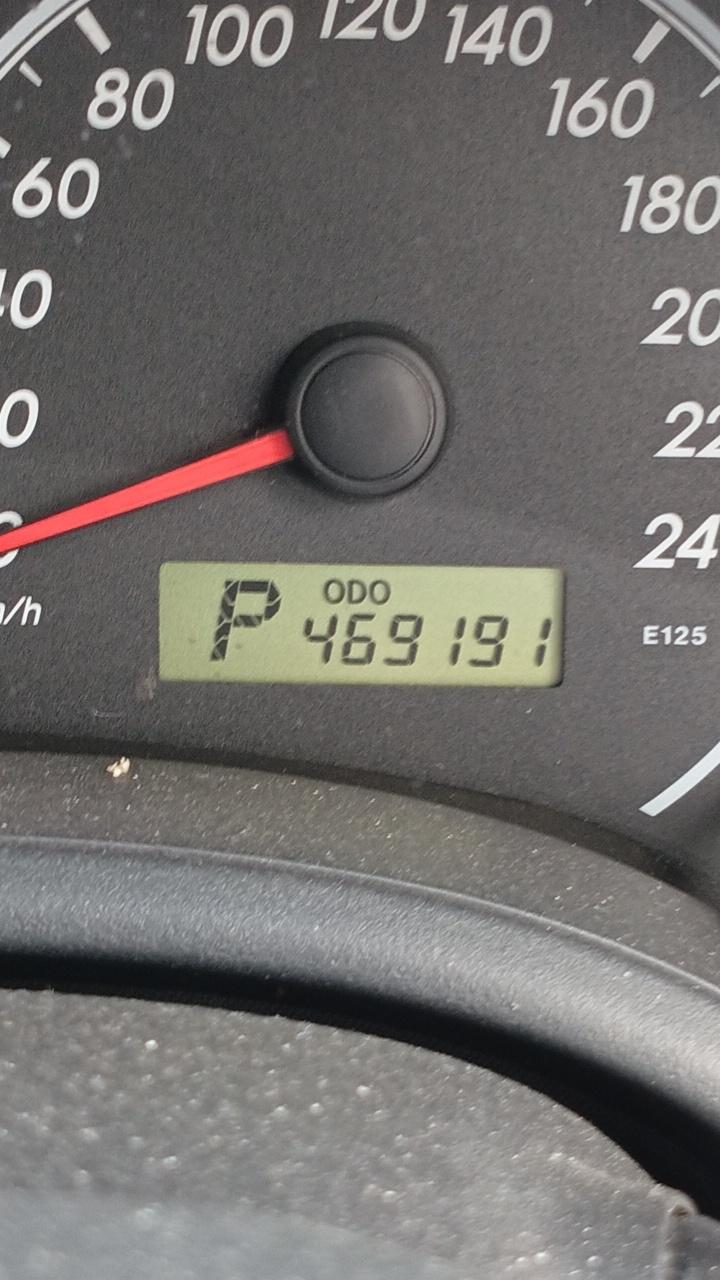1: (532, 616, 553, 668), (448, 615, 466, 667)
4: (302, 614, 338, 666)
6: (341, 612, 378, 666)
9: (467, 615, 509, 669), (383, 614, 424, 667)
X: (208, 580, 284, 664), (368, 579, 392, 605), (323, 579, 345, 605), (347, 580, 367, 604)
odometer: (157, 560, 566, 692)
